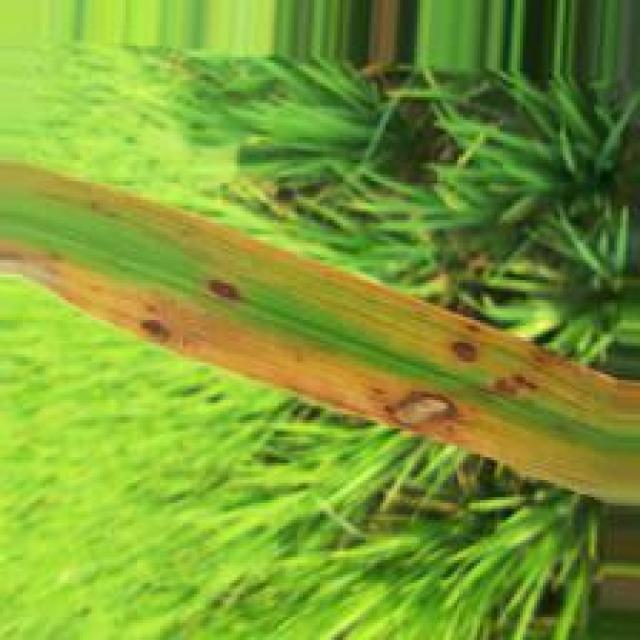Rice Tungro: (4, 235, 640, 516), (7, 171, 639, 429)
